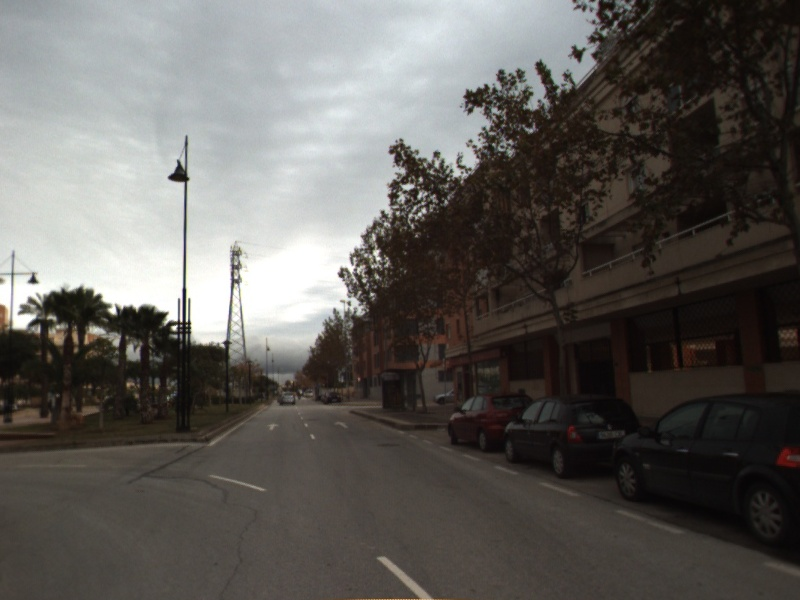STRAIGHT: (332, 419, 351, 430), (265, 421, 281, 432)
